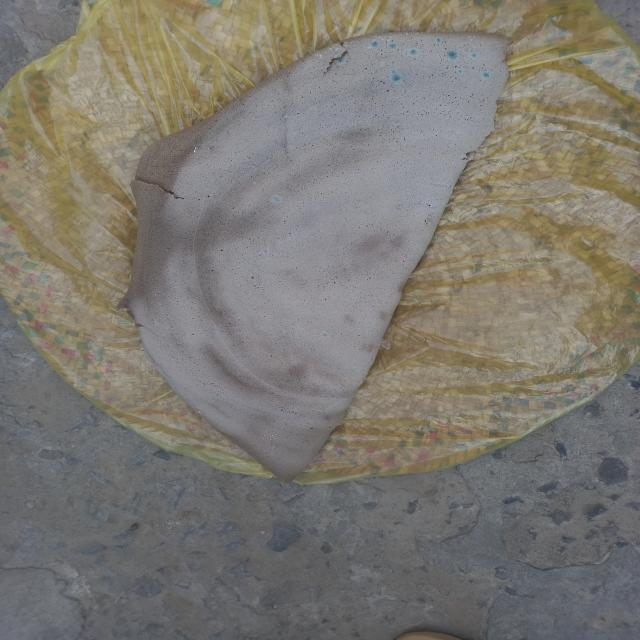injera_mold: (447, 50, 458, 60), (328, 44, 338, 52), (336, 56, 347, 63), (391, 74, 402, 81), (315, 51, 323, 59), (270, 197, 282, 202), (370, 41, 380, 47), (482, 72, 490, 78), (409, 49, 418, 54), (389, 43, 397, 48), (471, 52, 477, 58), (195, 410, 202, 415), (321, 333, 329, 337), (434, 38, 442, 42), (390, 70, 396, 74), (458, 69, 462, 74), (353, 45, 357, 49), (269, 435, 274, 438), (350, 41, 355, 44), (193, 150, 197, 152), (269, 439, 272, 441), (194, 147, 197, 149), (473, 36, 476, 38), (468, 36, 471, 38), (197, 406, 199, 408), (262, 438, 264, 440), (264, 434, 266, 436), (279, 434, 281, 436), (272, 447, 275, 448), (275, 434, 277, 435), (199, 144, 200, 146), (190, 156, 191, 158), (208, 148, 209, 150), (196, 157, 198, 158), (196, 145, 197, 146), (207, 156, 208, 157)
